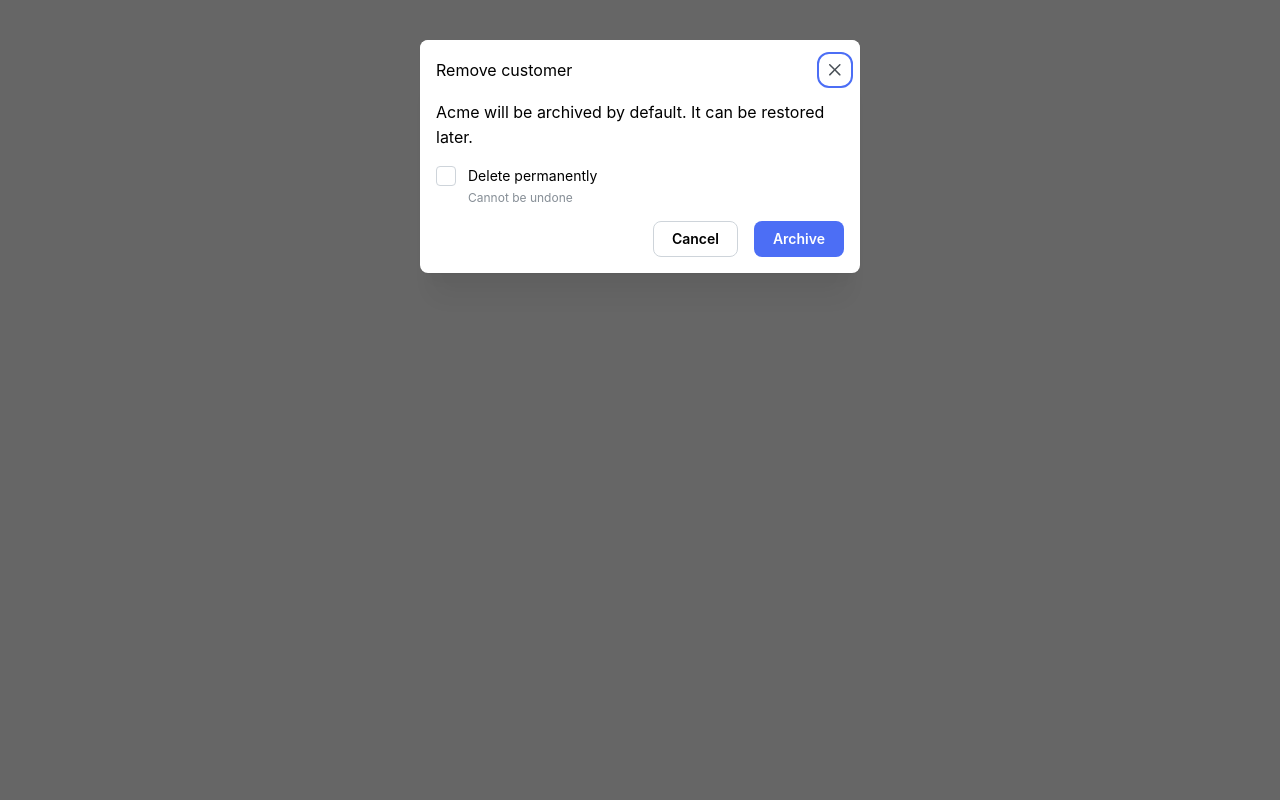
Test case: RemoveEntityModal › shows the blockers from a 409 response returned by the server
Expected: the text "Delete permanently" is shown, left=456, top=166, right=597, bottom=186
Click the checkbox: click(446, 176) left=436, top=166, right=456, bottom=186
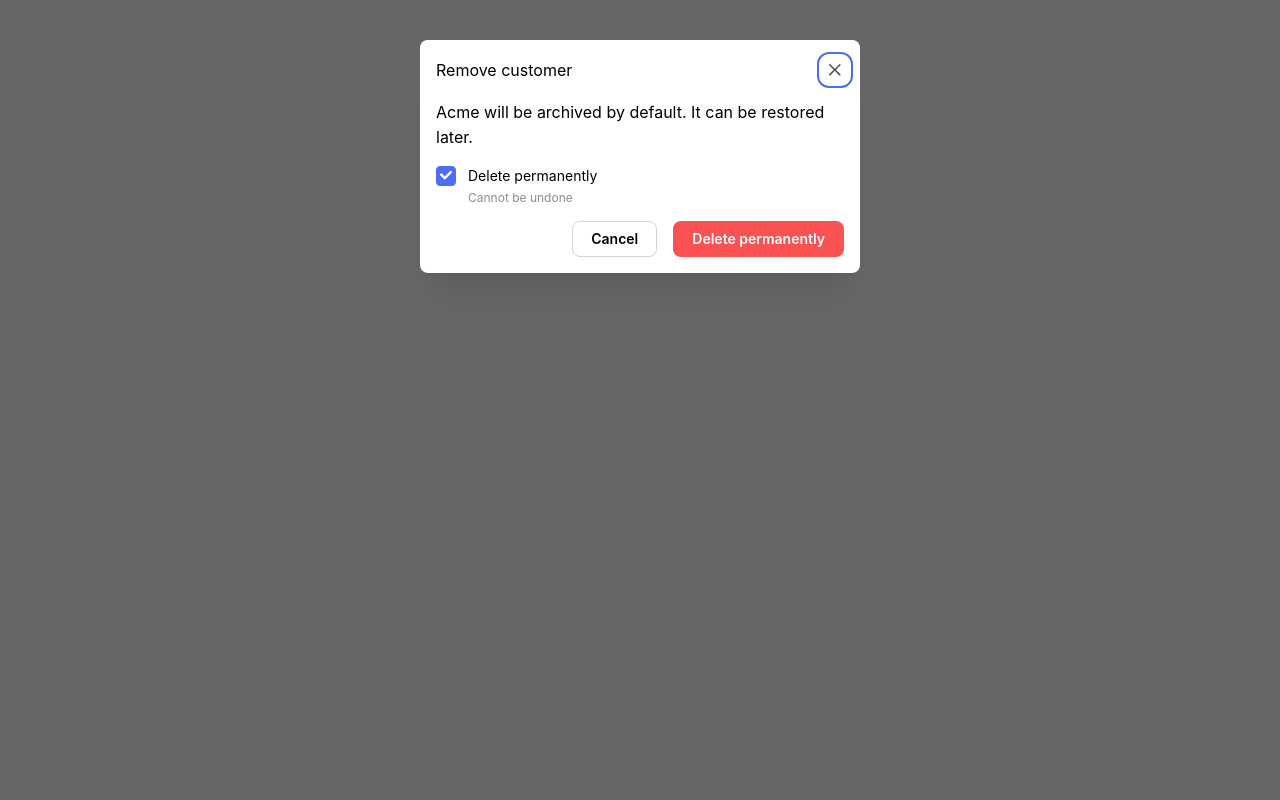
Click the button "Delete permanently": click(759, 239) left=673, top=221, right=844, bottom=257
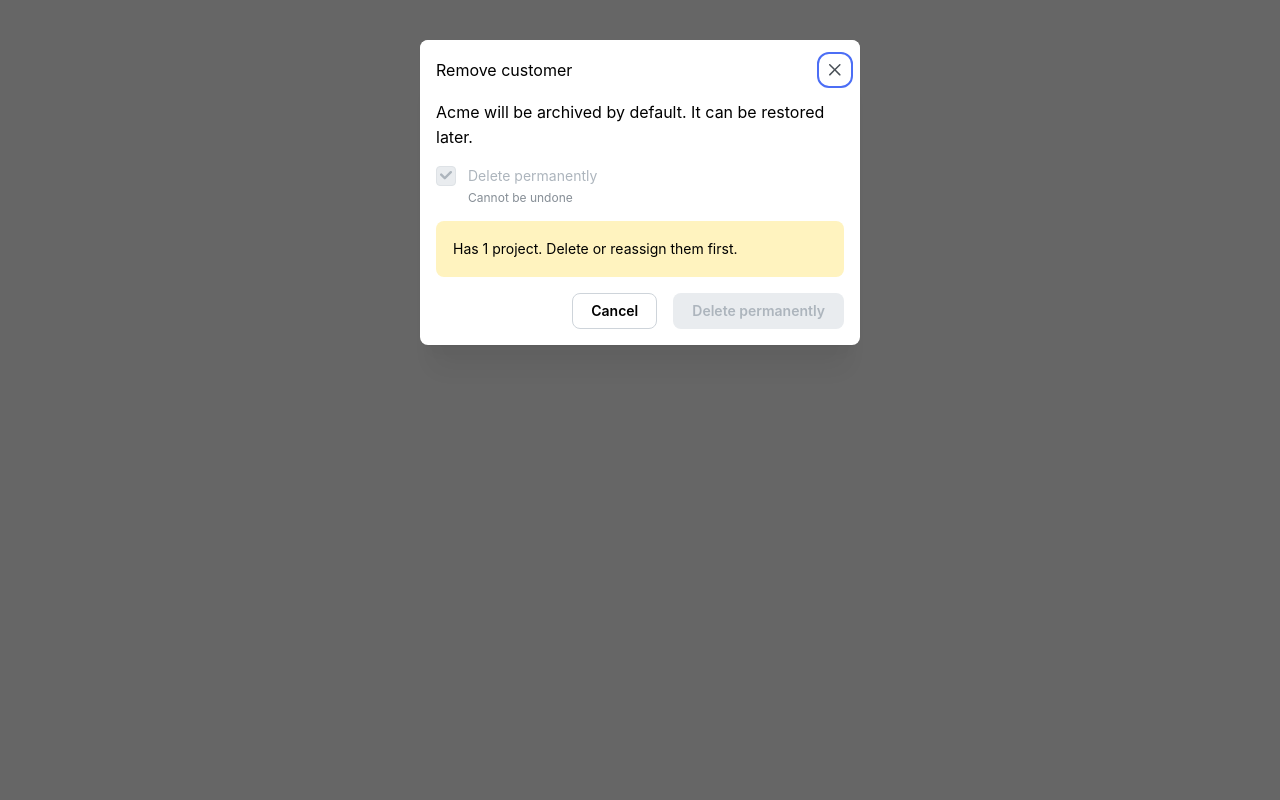
Expected: the text "Has 1 project. Delete or reassign them first." is shown, left=453, top=240, right=738, bottom=257
